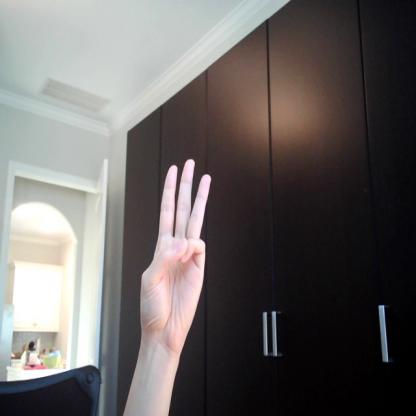six: (137, 161, 210, 351)
